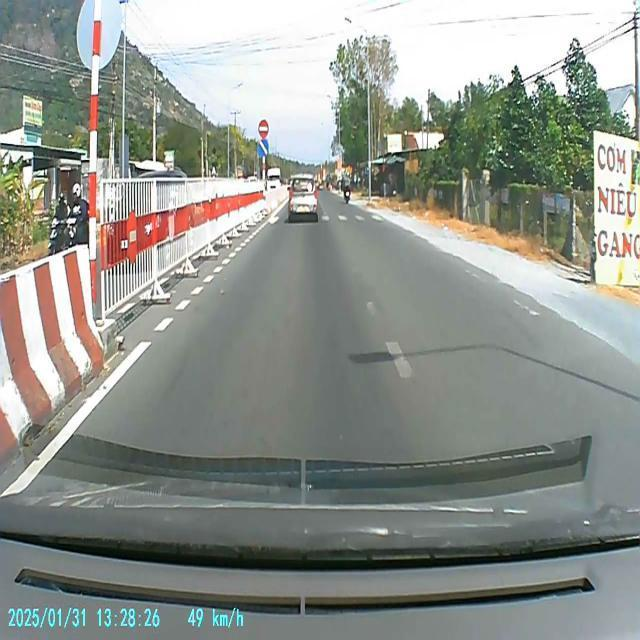102-cam-di-nguoc-chieu: (256, 118, 270, 138)
302a-huong-phai-di-vong-chuong-ngai-vat-1: (258, 139, 270, 157)
